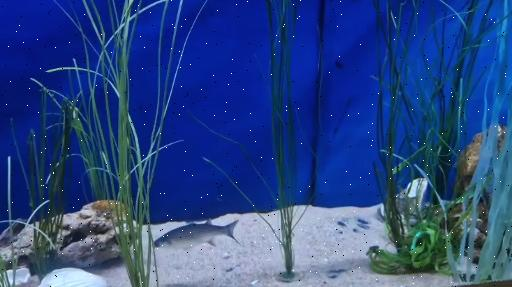Fish: (154, 219, 240, 249)
